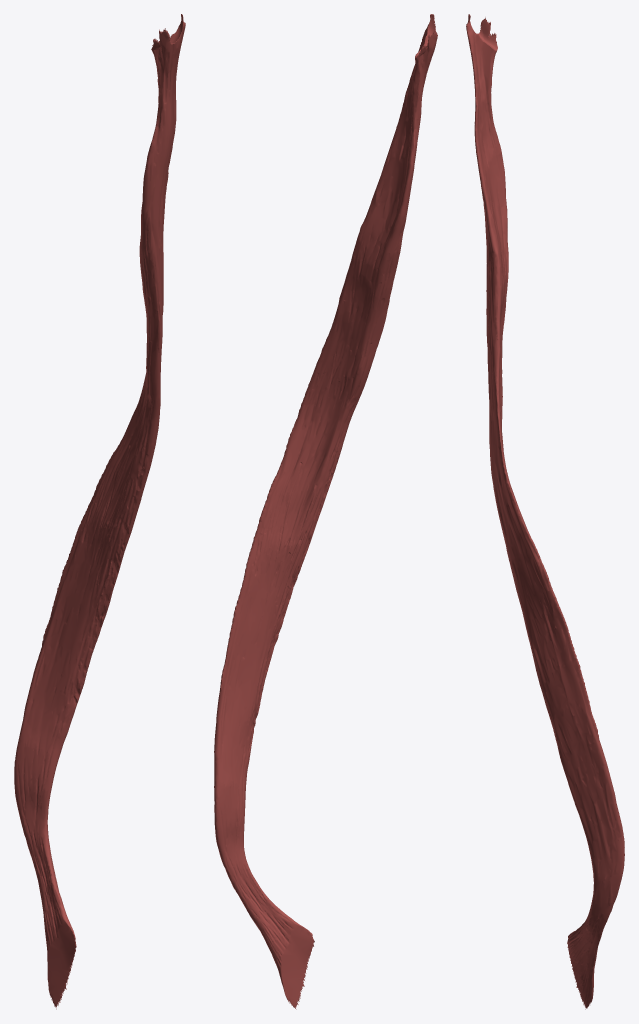
Rendered from FMA22354.glb.
The picture shows the model from 3 angles, left to right: view 1: azimuth 90°, elevation 25°; view 2: azimuth 150°, elevation 25°; view 3: azimuth 270°, elevation 25°; orthographic projection. The views are drawn at different scales.
Visible parts, largest first — view 1: FMA22354; view 2: FMA22354; view 3: FMA22354.
Boxes of the visible parts, x1,y1,x2,y2 form: FMA22354: (14,14,185,1009); FMA22354: (214,14,437,1009); FMA22354: (466,14,624,1009).
Bounding box in the file's own units: 0.0999 × 0.5812 × 0.0873.
